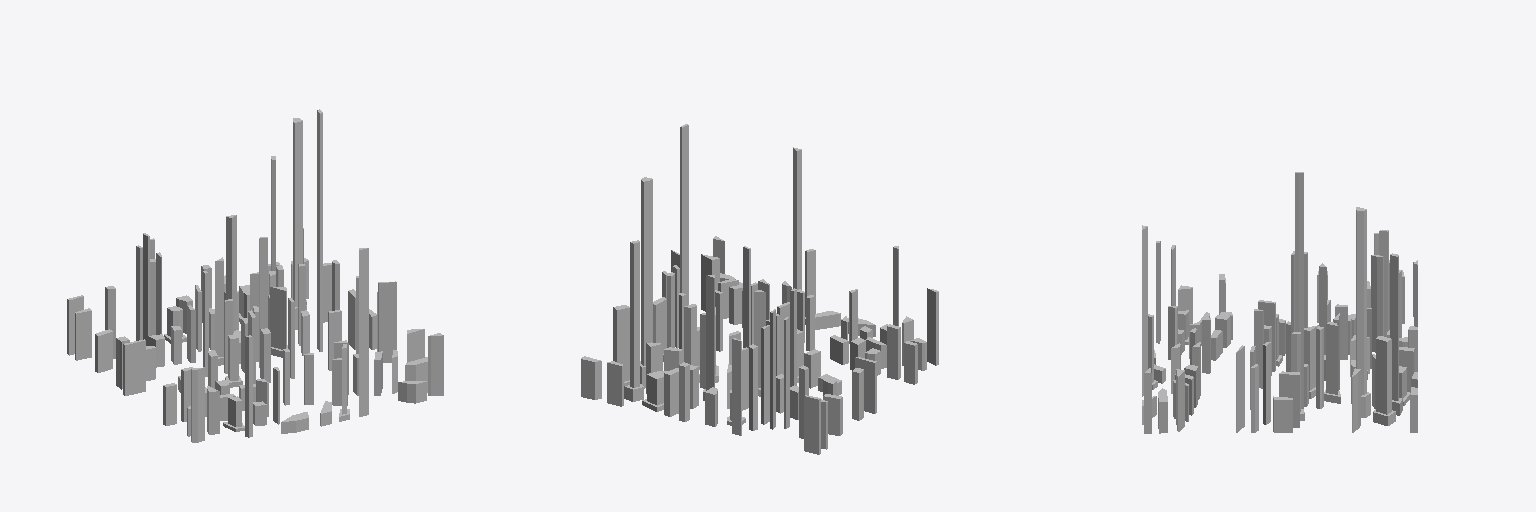
The model's file is buildings_00063.obj.
3 views of the same model, side by side, from view 1: azimuth 30°, elevation 25°; view 2: azimuth 150°, elevation 25°; view 3: azimuth 270°, elevation 25° (orthographic).
Bounding box in the file's own units: 1468 × 1396 × 1460.